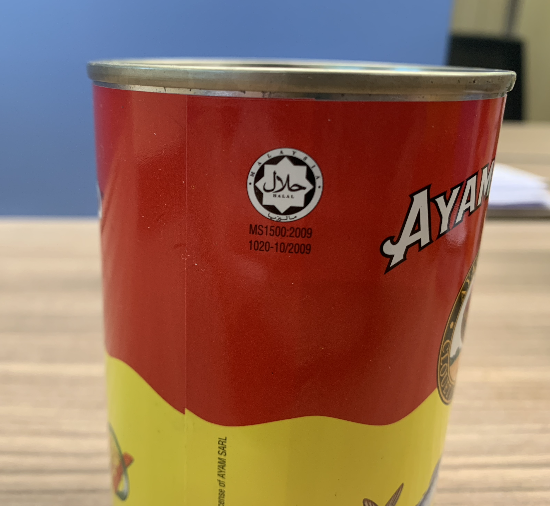halal: (257, 163, 312, 206)
